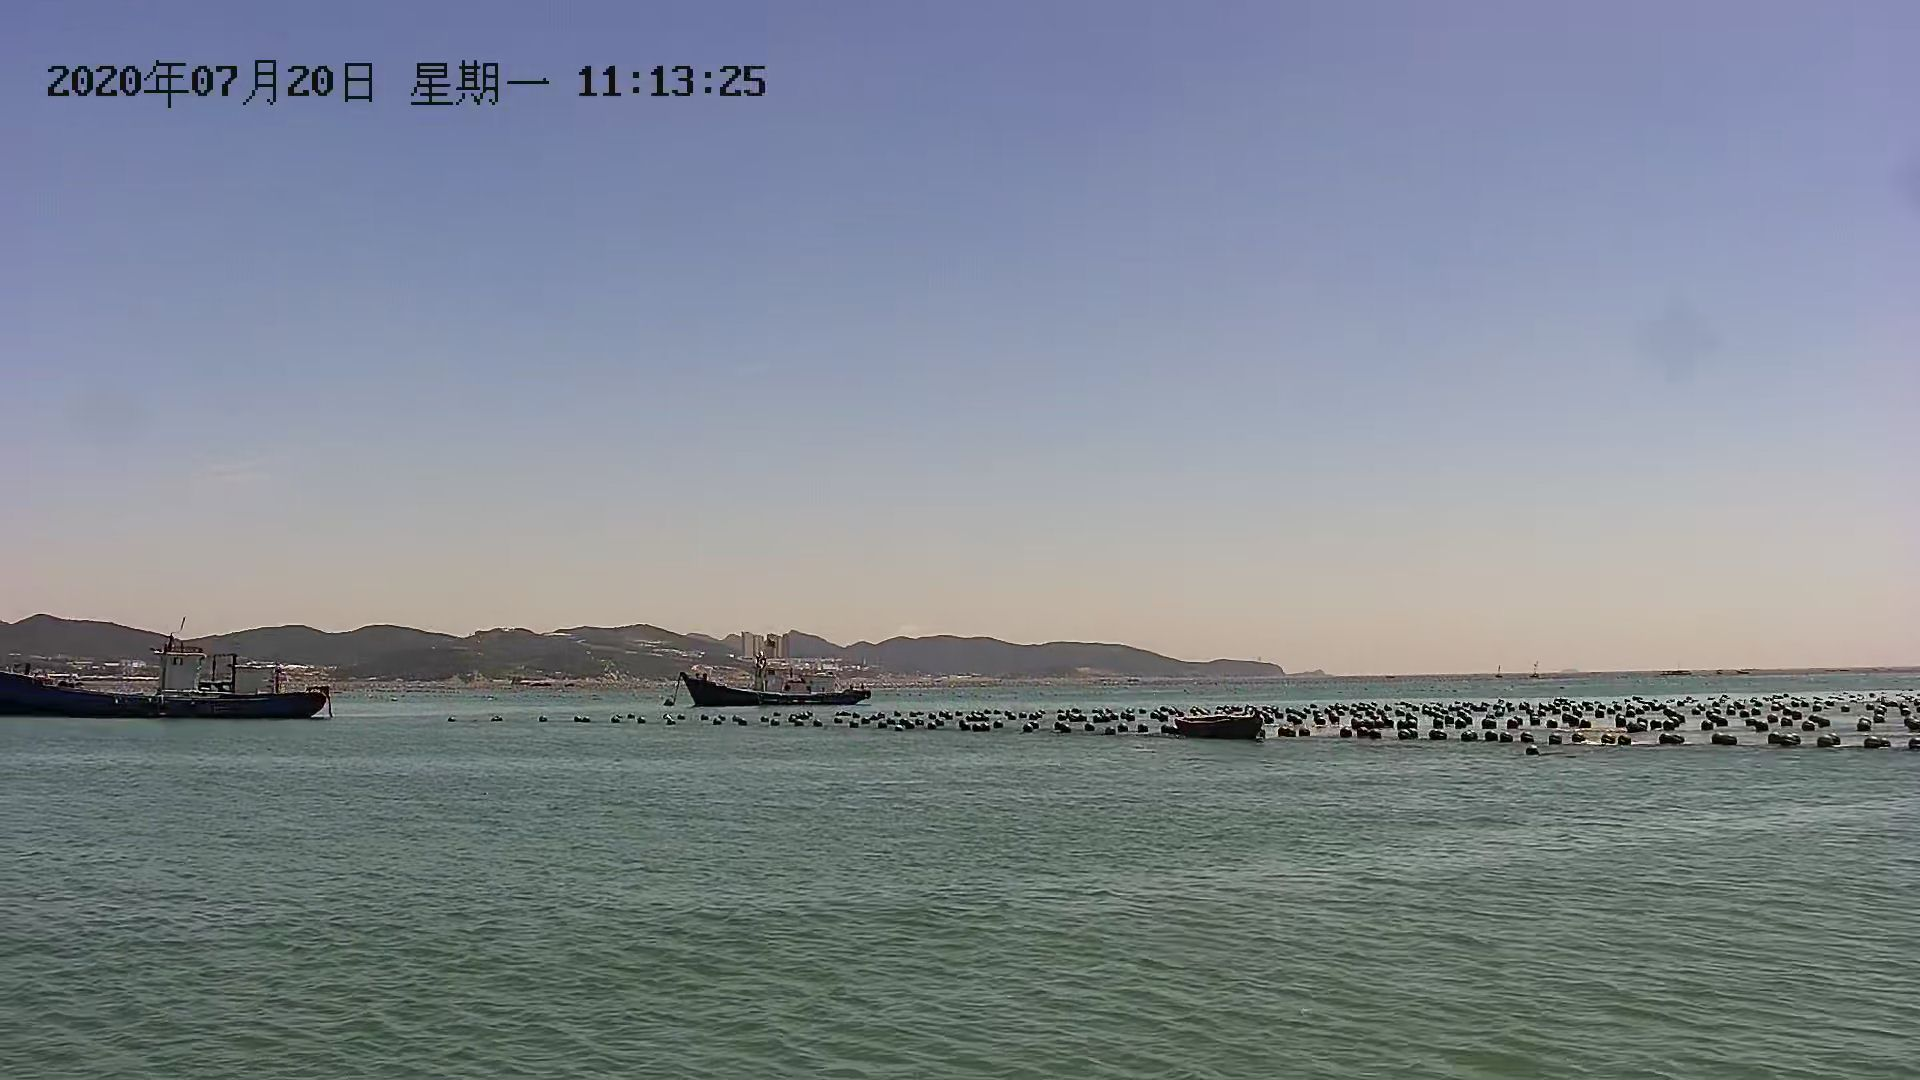boat: (1168, 709, 1266, 742)
ship: (1, 646, 331, 727), (680, 659, 872, 708)
